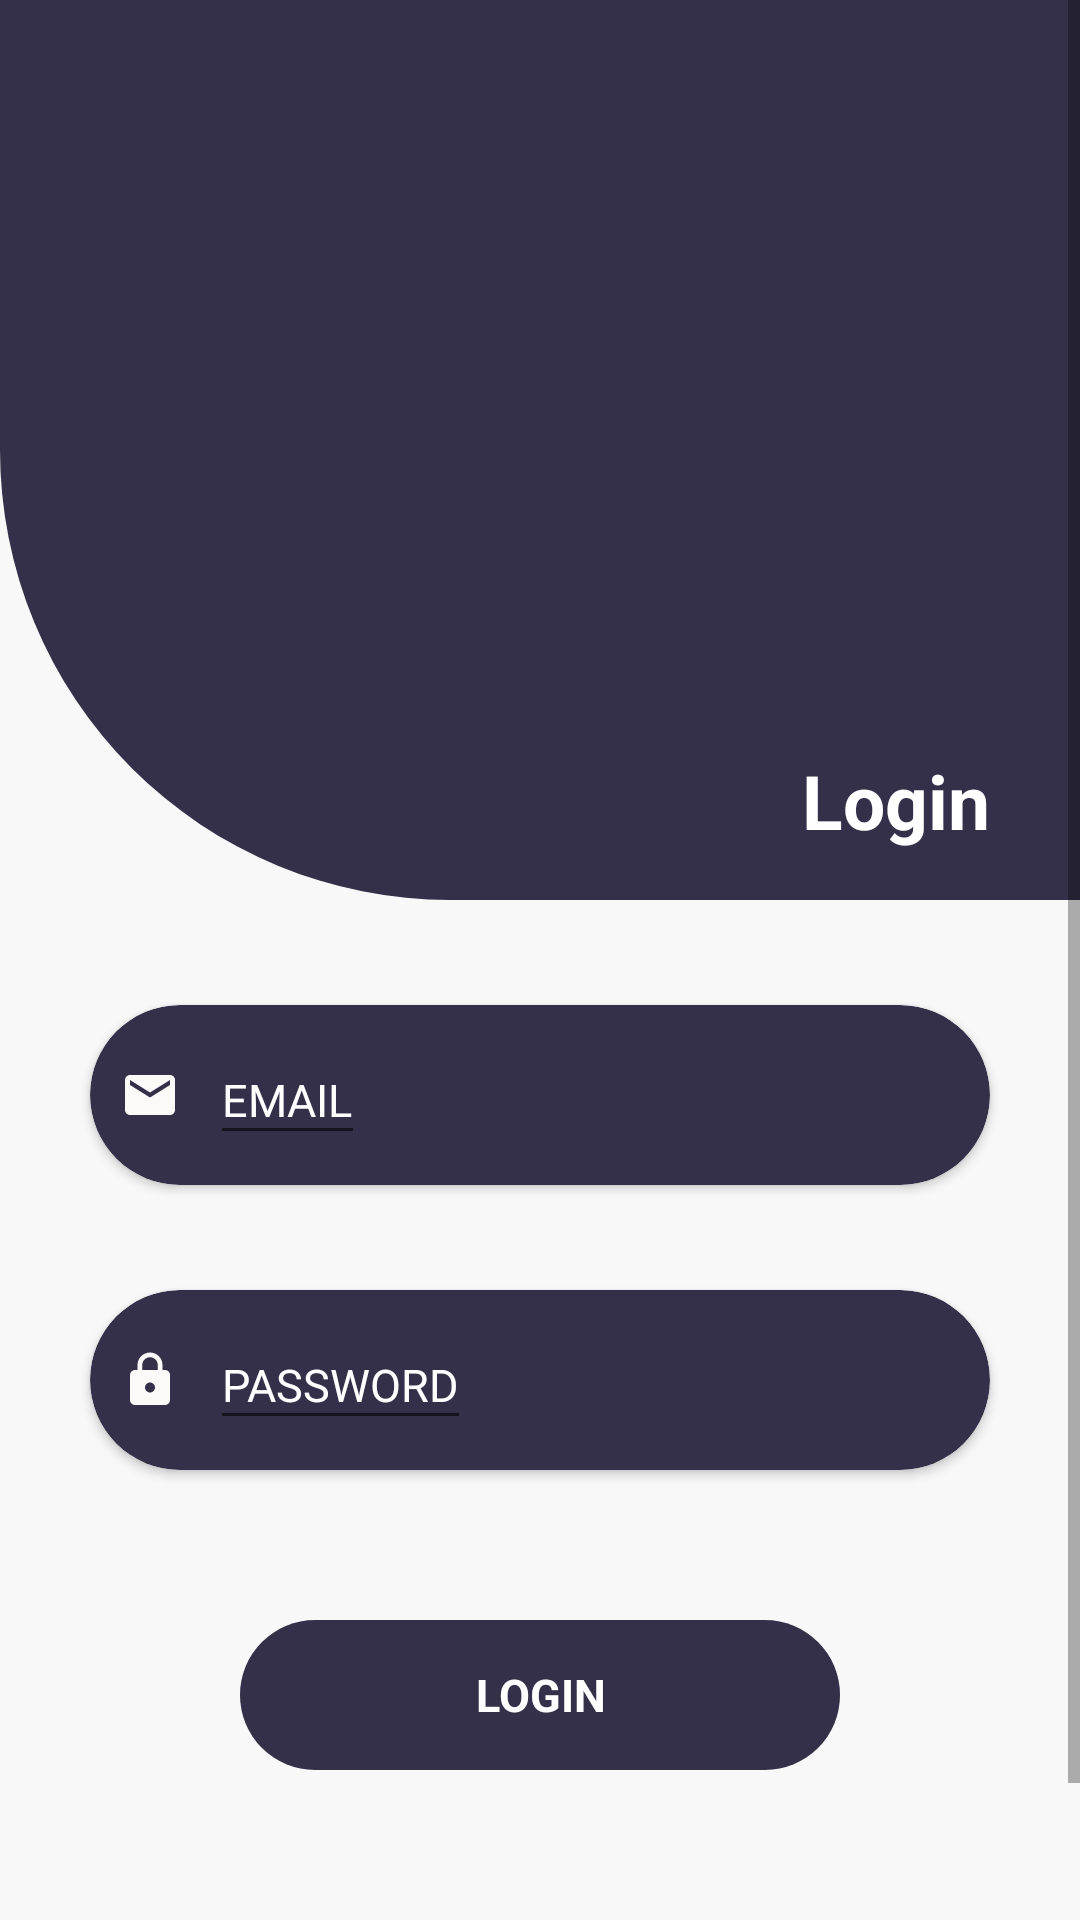

Icons on this 1080w x 1920h Android screen, each with the point to tap as point (x, y):
lock: point (150, 1378)
